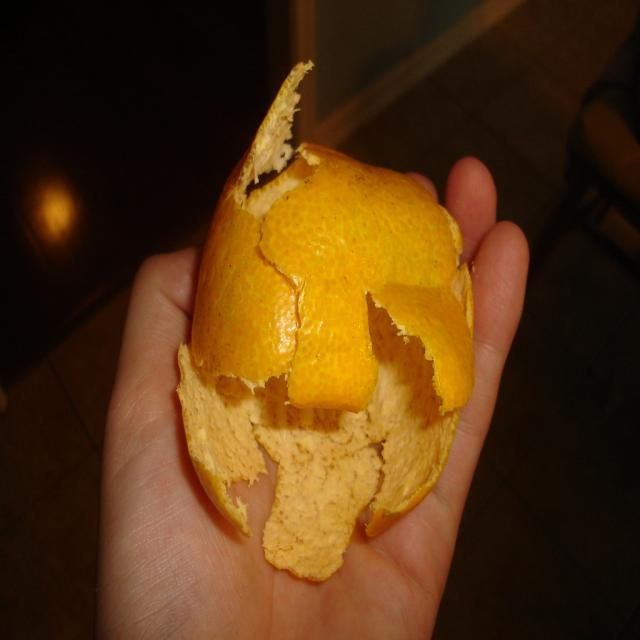Non_Gorille: (0, 0, 632, 640)
